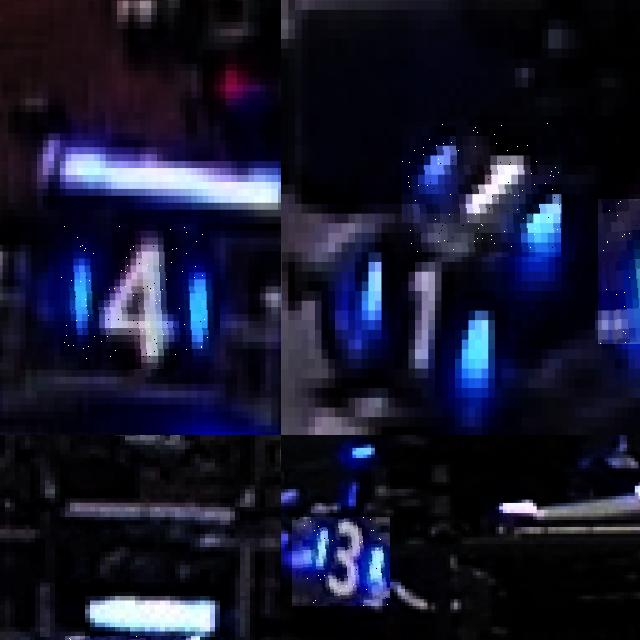B1: (328, 243, 495, 417), (402, 121, 562, 257), (598, 198, 640, 344)
B3: (292, 517, 390, 606)
B4: (60, 223, 214, 369)
